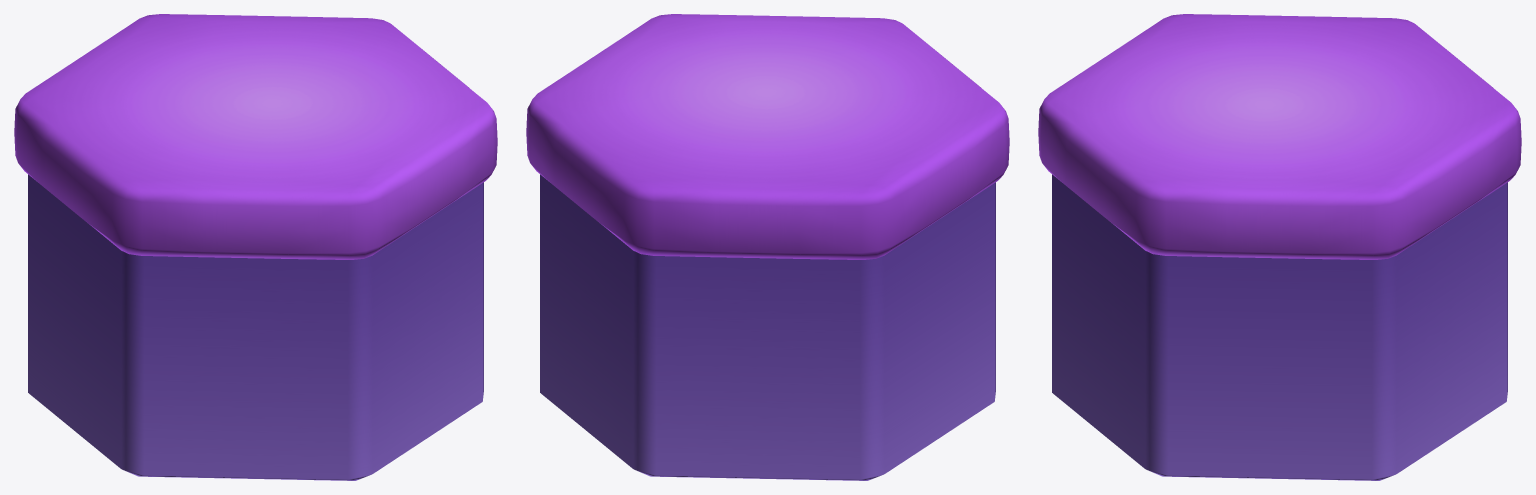
File: Tile mareprout.fbx
3 views of the same model, side by side, from view 1: azimuth 30°, elevation 25°; view 2: azimuth 150°, elevation 25°; view 3: azimuth 270°, elevation 25° (orthographic).
Parts seen in each view (by area): view 1: Cylinder.136, Cylinder.135; view 2: Cylinder.136, Cylinder.135; view 3: Cylinder.136, Cylinder.135.
Part boxes in pixels (<box>): Cylinder.136: <box>28,174,483,480</box>; Cylinder.135: <box>14,14,497,259</box>; Cylinder.136: <box>540,174,995,480</box>; Cylinder.135: <box>526,14,1009,259</box>; Cylinder.136: <box>1052,174,1507,480</box>; Cylinder.135: <box>1038,14,1521,259</box>.
Size of the model in its own units: 171 by 128 by 187.
